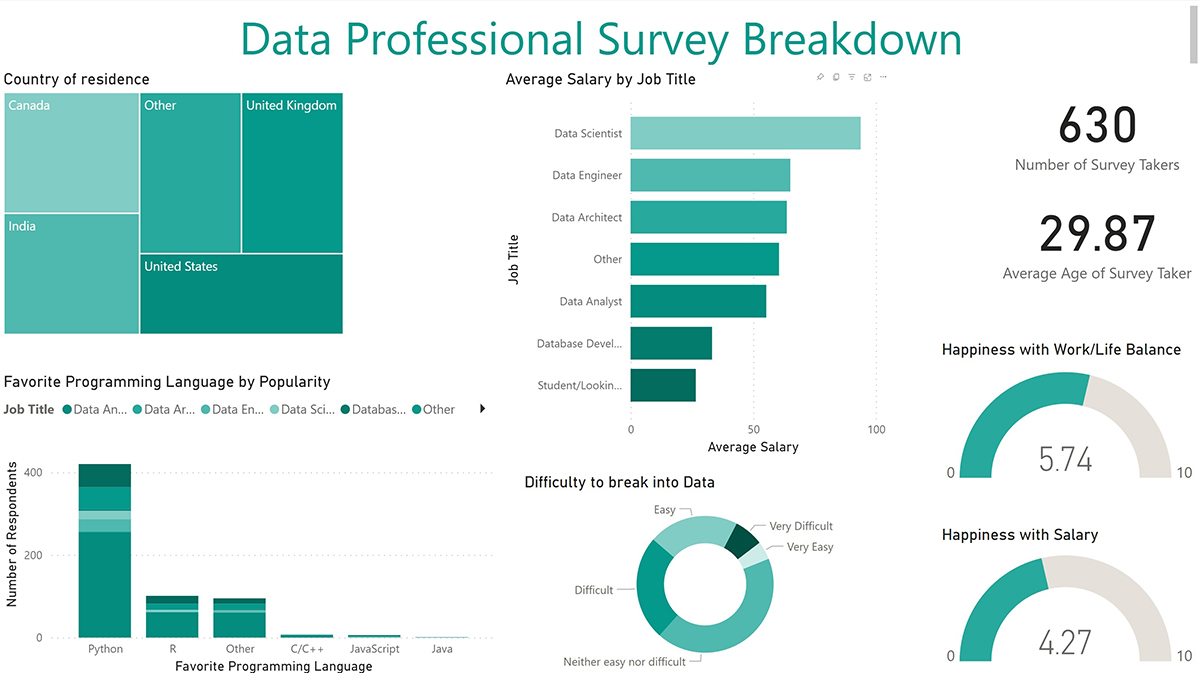

This screenshot's page, from the dashboard's own definition file:
{"tool":"powerbi","page":{"name":"Page 1","canvas":[1280,720],"ordinal":0},"visuals":[{"type":"textbox","box":[9.6,0,1270.7,72.7],"z":0},{"type":"card","fields":{"Values":["CountNonNull(Data Professional Survey.Unique ID)"]},"box":[1060.2,72.9,217.2,124.3],"z":1},{"type":"card","fields":{"Values":["Avg(Data Professional Survey.Q10 - Current Age)"]},"box":[1057.4,197.2,222.9,107.2],"z":2},{"type":"barChart","title":"Average Salary by Job Title","fields":{"Category":["Data Professional Survey.Q1 - Which Title Best Fits your Current Role?"],"Y":["Avg(Data Professional Survey.Average Salary)"],"Series":["Data Professional Survey.Q1 - Which Title Best Fits your Current Role?"]},"box":[534.4,72.9,414.4,414.4],"z":3},{"type":"columnChart","title":"Favorite Programming Language by Popularity","fields":{"Category":["Data Professional Survey.Q5 - Favorite Programming Language"],"Y":["CountNonNull(Data Professional Survey.Unique ID)"],"Series":["Data Professional Survey.Q1 - Which Title Best Fits your Current Role?"]},"box":[0,394.4,534.4,325.8],"z":4},{"type":"treemap","title":"Country of residence","fields":{"Group":["Data Professional Survey.Q11 - Which Country do you live in?.1"],"Values":["Count(Data Professional Survey.Q11 - Which Country do you live in?.1)"]},"box":[0,72.9,371.5,287.2],"z":5},{"type":"gauge","title":"Happiness with Work/Life Balance","fields":{"Y":["Avg(Data Professional Survey.Q6 - How Happy are you in your Current Position with the following? (Work/Life Balance))"],"MinValue":["Min(Data Professional Survey.Q6 - How Happy are you in your Current Position with the following? (Work/Life Balance))"],"MaxValue":["Max(Data Professional Survey.Q6 - How Happy are you in your Current Position with the following? (Work/Life Balance))1"]},"box":[998.8,360.1,281.5,167.2],"z":6},{"type":"gauge","title":"Happiness with Salary","fields":{"Y":["Avg(Data Professional Survey.Q6 - How Happy are you in your Current Position with the following? (Salary))"],"MinValue":["Min(Data Professional Survey.Q6 - How Happy are you in your Current Position with the following? (Salary))"],"MaxValue":["Max(Data Professional Survey.Q6 - How Happy are you in your Current Position with the following? (Salary))"]},"box":[998.8,557.3,281.5,162.9],"z":7},{"type":"donutChart","title":"Difficulty to break into Data","fields":{"Y":["CountNonNull(Data Professional Survey.Q7 - How difficult was it for you to break into Data?)"],"Category":["Data Professional Survey.Q7 - How difficult was it for you to break into Data?"]},"box":[554.4,501.5,394.4,218.6],"z":8}]}

Visuals, with their boxes in screenshot pixels (x1, y1, x2, y2), scaled from the page's 1280x720 canvas onto the 1200x673 screenshot:
textbox: 9, 0, 1199, 68
card - CountNonNull(Data Professional Survey.Unique ID): 994, 68, 1198, 184
card - Avg(Data Professional Survey.Q10 - Current Age): 991, 184, 1199, 285
"Average Salary by Job Title" barChart: 501, 68, 890, 455
"Favorite Programming Language by Popularity" columnChart: 0, 369, 501, 672
"Country of residence" treemap: 0, 68, 348, 337
"Happiness with Work/Life Balance" gauge: 936, 337, 1199, 493
"Happiness with Salary" gauge: 936, 521, 1199, 672
"Difficulty to break into Data" donutChart: 520, 469, 890, 672
